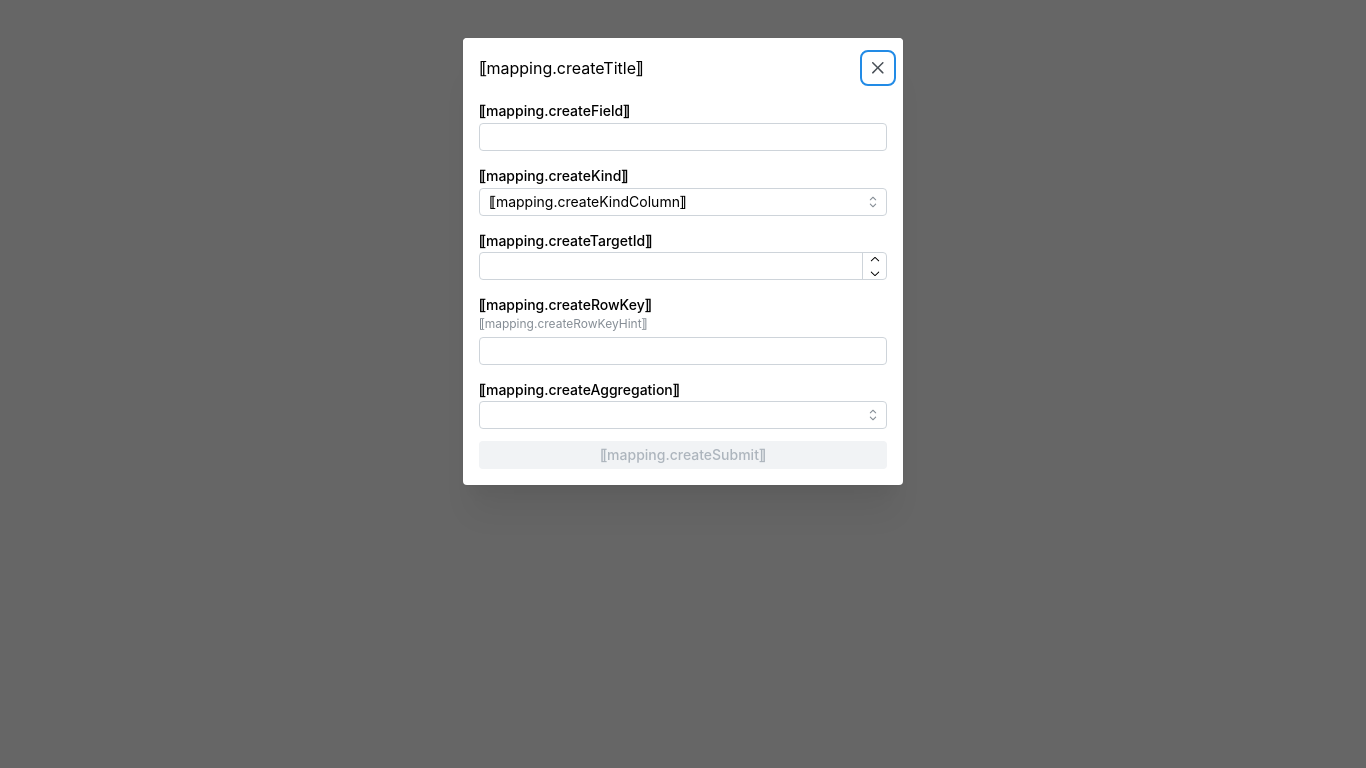
Test: Проба шляху мапінгу (ФВ-13.17) › hasValue: true — значення, одиниця, мітка часу й якість
The width and height of the screenshot is (1366, 768).
Type "Plant/Unit1|CO2" into the field labelled "⟦mapping.createField⟧".
click(683, 137); type("Plant/Unit1|CO2")  # box [479,123,887,151]
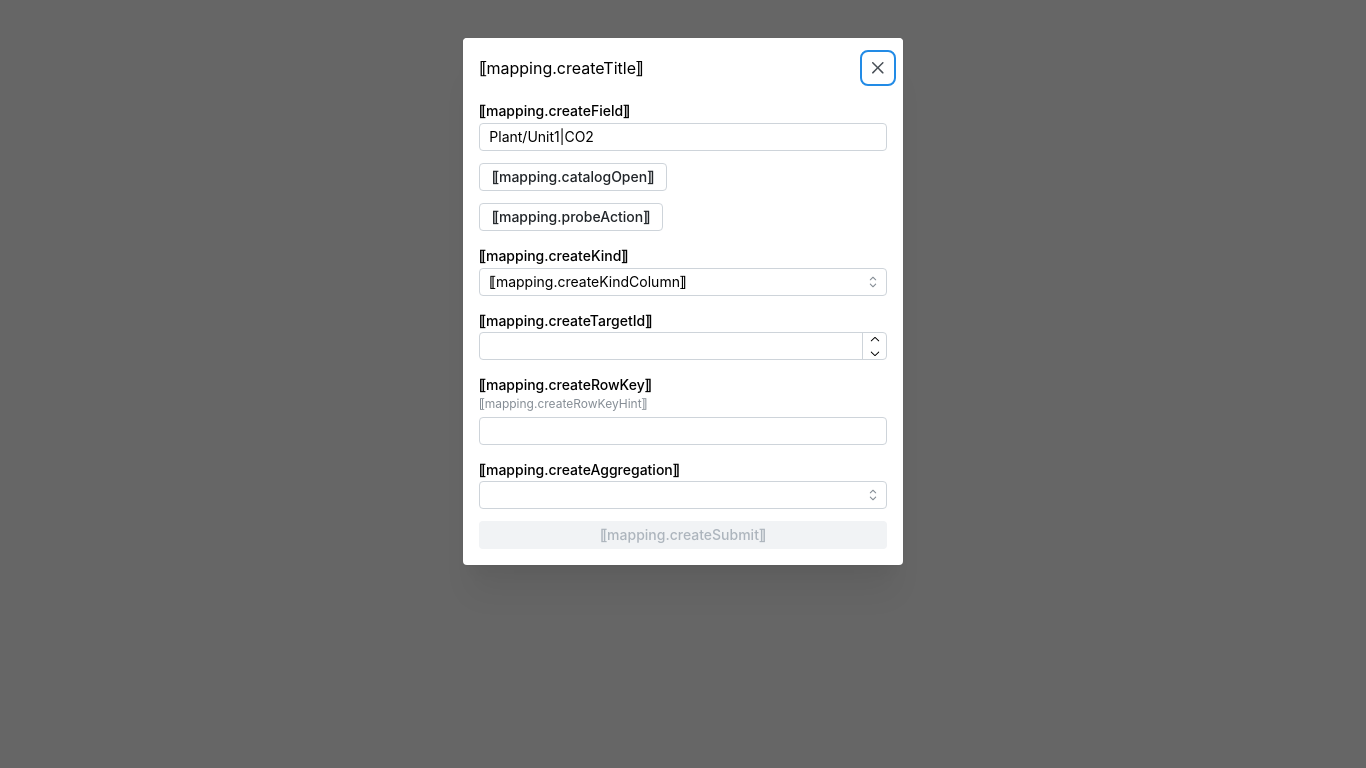
Click the button "⟦mapping.probeAction⟧".
click(571, 217)  # box [479,203,663,231]
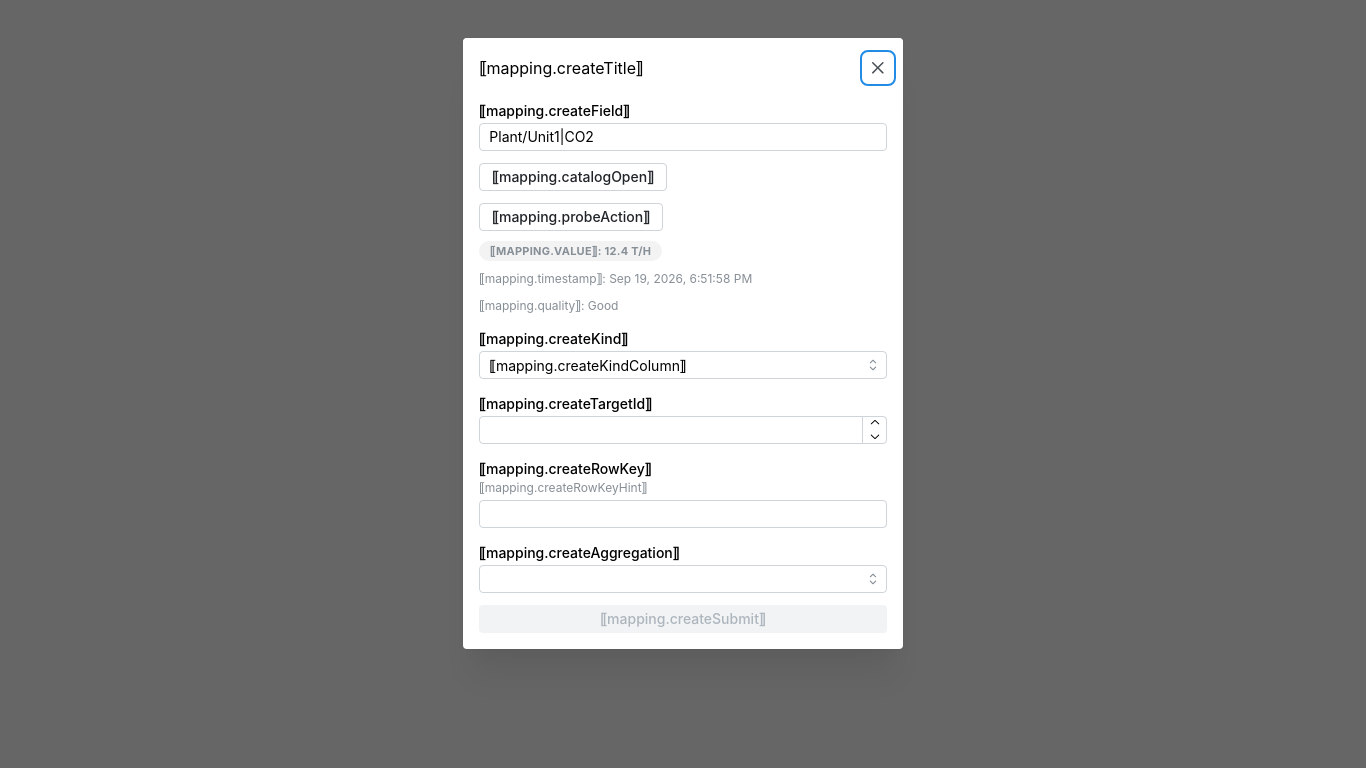
expect the element that starts with "⟦mapping.value⟧" is shown: met, box [479,241,752,315]
expect the text "⟦mapping.value⟧: 12.4 t/h" is shown: met, box [490,242,651,260]
expect the text "⟦mapping.quality⟧: Good" is shown: met, box [479,298,618,315]
